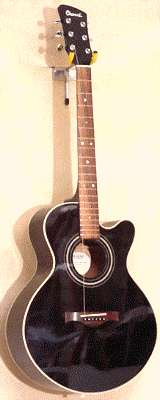guitar: (4, 4, 158, 395)
